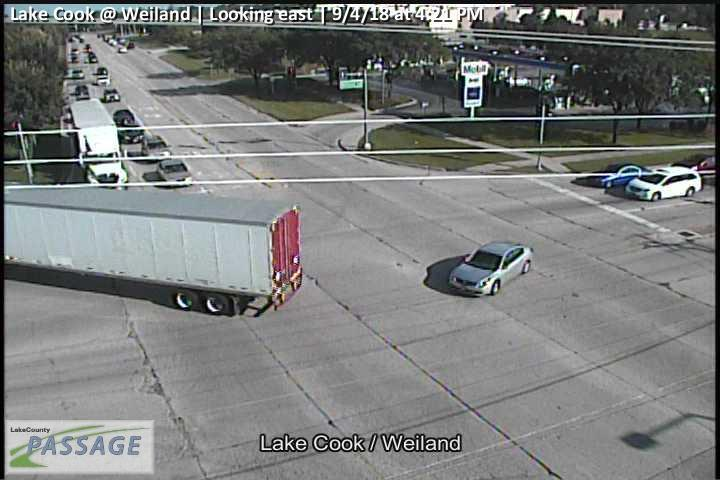SUV: (627, 165, 702, 202), (141, 135, 171, 160), (75, 85, 89, 100)
Sedan: (448, 241, 534, 294), (588, 163, 651, 189), (158, 159, 192, 186), (122, 123, 143, 142), (113, 109, 135, 127), (104, 89, 120, 101), (73, 70, 84, 79)
Truck: (1, 186, 302, 318), (69, 98, 128, 194)
